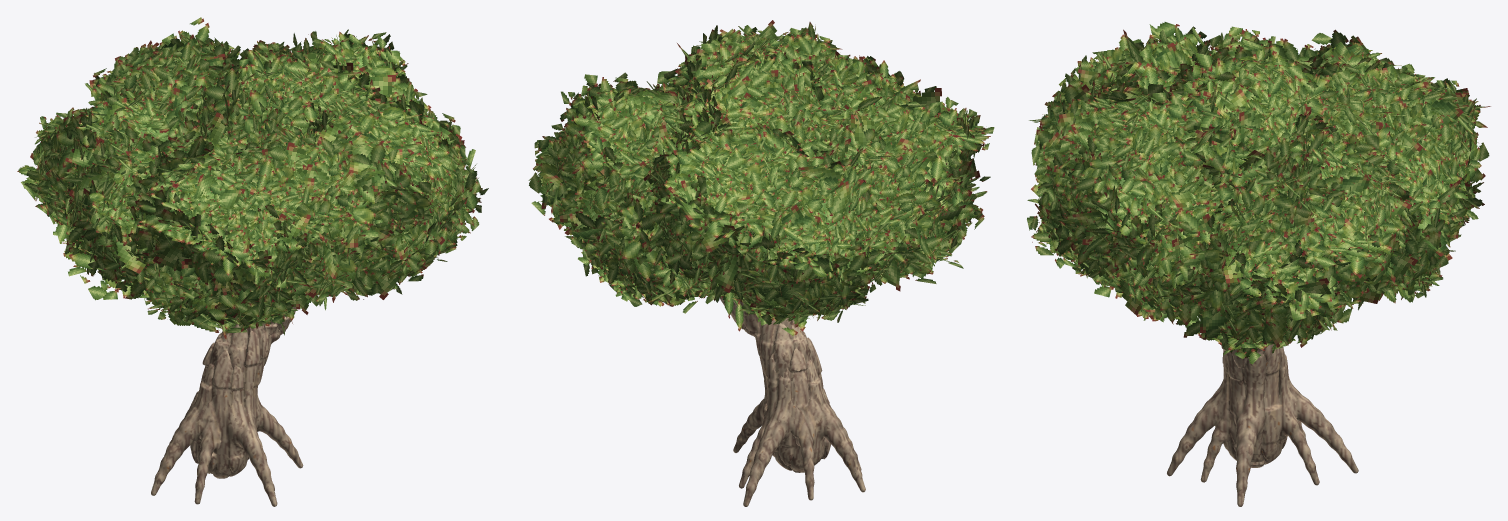
File: macieira_inclinada_v2.glb
3 renders of one model, left to right at view 1: azimuth 30°, elevation 25°; view 2: azimuth 150°, elevation 25°; view 3: azimuth 270°, elevation 25°, orthographic. The views are drawn at different scales.
Visible parts, largest first — view 1: macieira_inclinada; view 2: macieira_inclinada; view 3: macieira_inclinada.
Part boxes in pixels (x1,y1,x2,y2): macieira_inclinada: [17, 17, 488, 506]; macieira_inclinada: [528, 20, 994, 506]; macieira_inclinada: [1027, 22, 1490, 506].
Bounding box in the file's own units: 6.33 × 6.43 × 6.
Materials: 3 (1 with a texture image).
